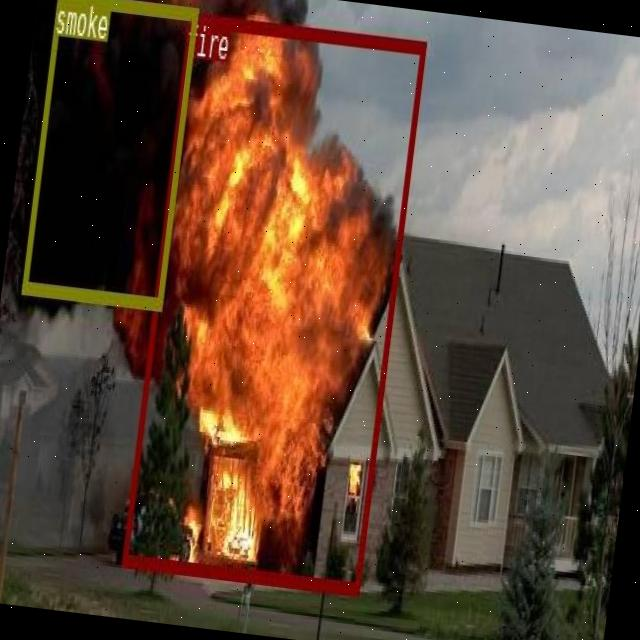fire: (121, 11, 425, 592)
smoke: (20, 0, 197, 308)
